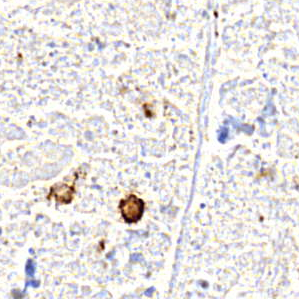Lymphocyte: (117, 193, 147, 223)
